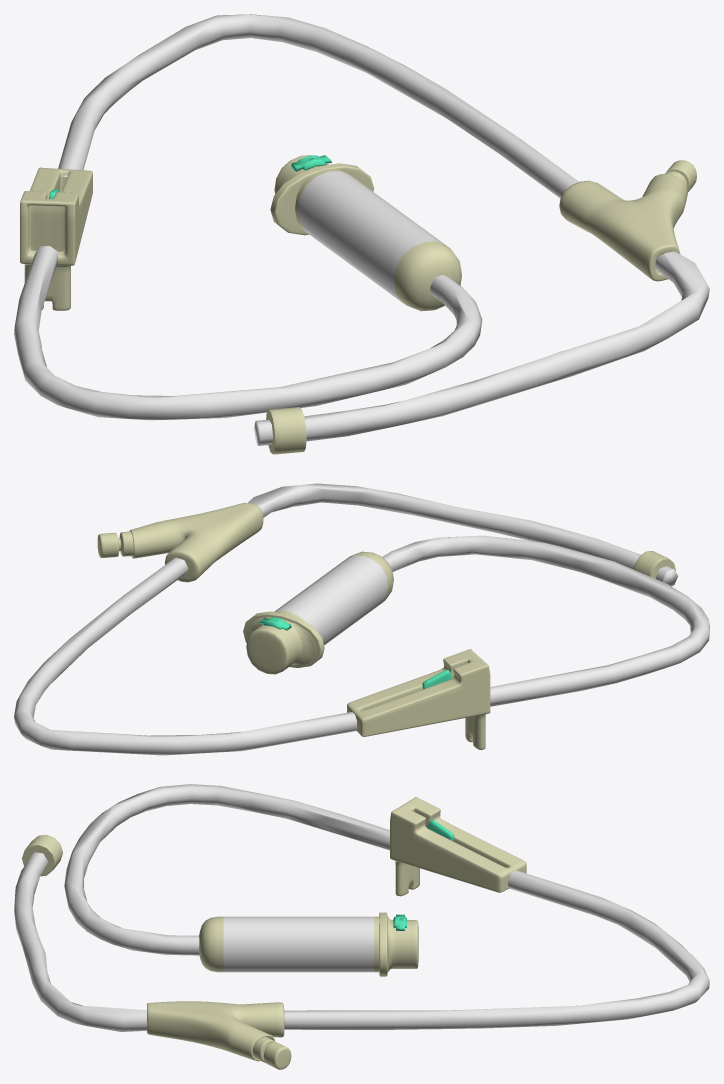
Rendered from SM_SistemaDeSuero.fbx.
3 views of the same model, one above another, from view 1: azimuth 30°, elevation 25°; view 2: azimuth 150°, elevation 25°; view 3: azimuth 270°, elevation 25° (orthographic). The views are drawn at different scales.
Parts seen in each view (by area): view 1: Cube.004; view 2: Cube.004; view 3: Cube.004.
Part boxes in pixels (left/top/right/bottom): Cube.004: left=14, top=14, right=709, bottom=454; Cube.004: left=14, top=483, right=709, bottom=755; Cube.004: left=14, top=784, right=709, bottom=1069.
Size of the model in its own units: 26.99 by 3.95 by 29.18.
